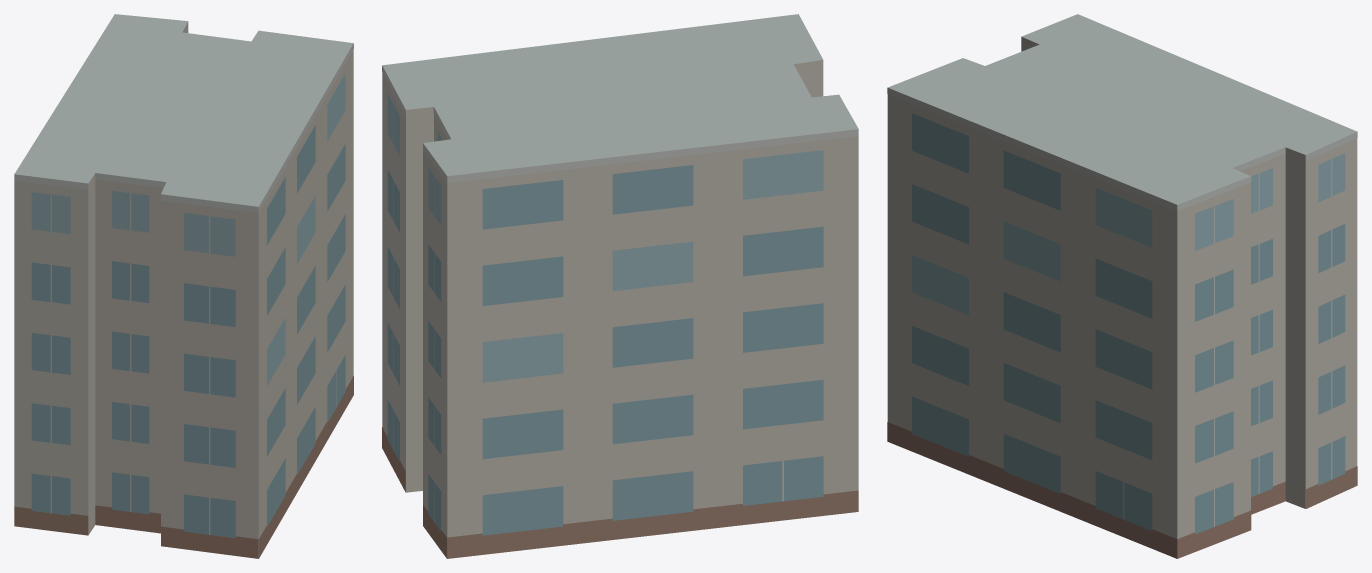
The model's file is survey-upis-32928511.glb.
The picture shows the model from 3 angles, left to right: view 1: azimuth 30°, elevation 25°; view 2: azimuth 150°, elevation 25°; view 3: azimuth 270°, elevation 25°; orthographic projection. The views are drawn at different scales.
Visible parts, largest first — view 1: survey-upis-32928511.tmp; view 2: survey-upis-32928511.tmp; view 3: survey-upis-32928511.tmp.
Boxes of the visible parts, left/top/right/bottom form: survey-upis-32928511.tmp: left=14, top=14, right=353, bottom=558; survey-upis-32928511.tmp: left=382, top=14, right=858, bottom=558; survey-upis-32928511.tmp: left=887, top=14, right=1357, bottom=558.
Size of the model in its own units: 15.62 by 13.5 by 16.25.
